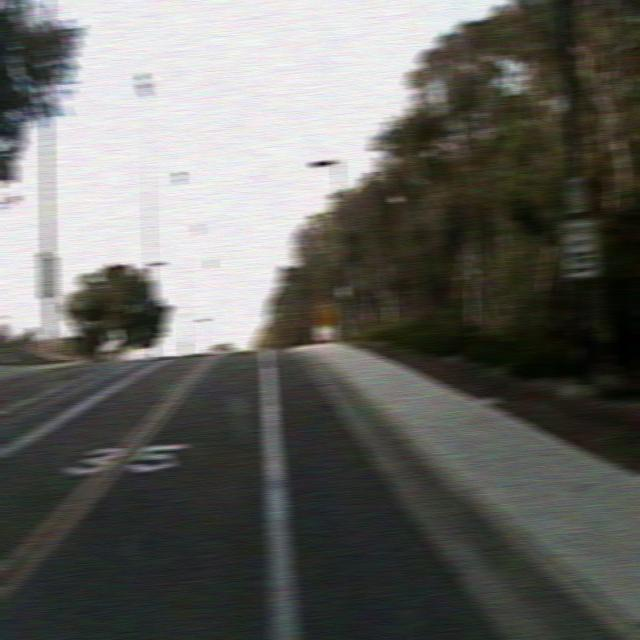speedLimit35: (559, 216, 600, 277)
